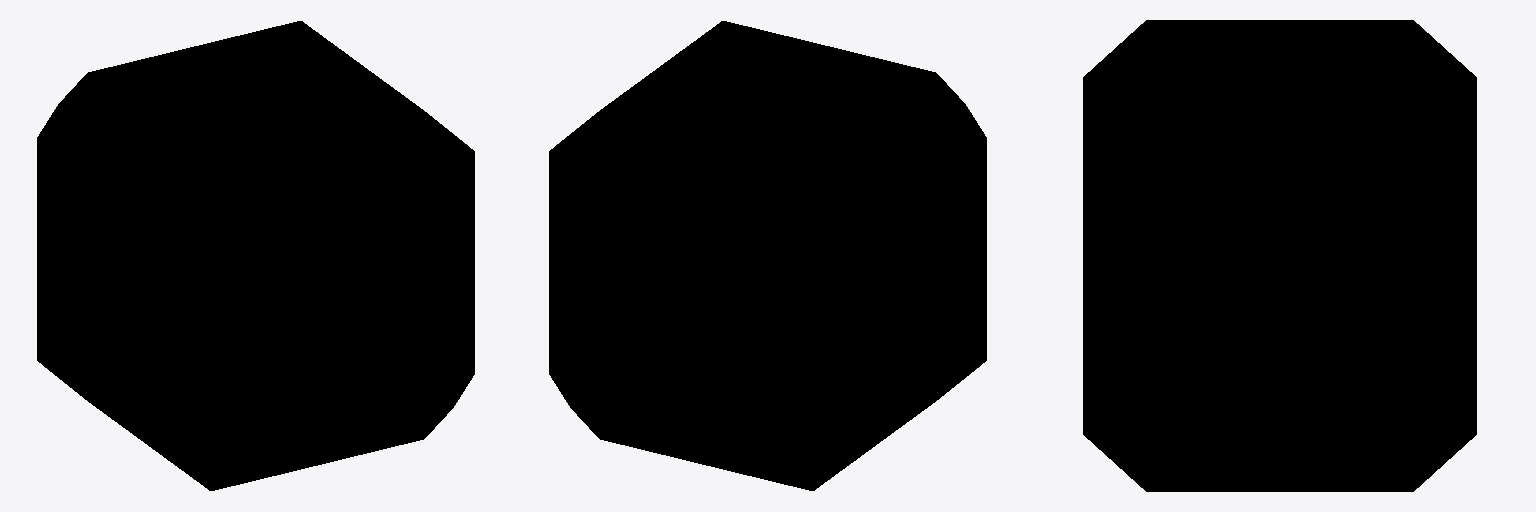
robot.urdf — cube_holes:
<?xml version="1.0" ?>
<robot name="cube_holes">
  <link name="baseLink">
    <contact>
            <restitution value="100" />
            <lateral_friction value="1000"/>
            <rolling_friction value="1000"/>
            <spinning_friction value="1000"/>
            <linear_damping value="1000"/>
            <angular_damping value="1000"/>
    </contact>
    <inertial>
      <origin rpy="0 0 0" xyz="0.0001 0.0 0.0"/>
       <mass value="10"/>
       <inertia ixx="0.0053" ixy="9e-05" ixz="0.00014" iyy="0.00534" iyz="0.0003" izz="0.00155"/>
    </inertial>
    <visual>
      <origin rpy="0 0 0" xyz="0.0001 0.0 0.0"/>
      <geometry>
        <mesh filename="../obj/cube_holes.obj" scale=".001 .001 .001"/>
      </geometry>
       <material name="black">
        <color rgba="0 0 0 1"/>
      </material>
    </visual>
    <collision>
      <origin rpy="0 0 0" xyz="0.0001 0.0 0.0"/>
      <geometry>
	 	<mesh filename="../obj/cube_holes.obj" scale=".001 .001 .001"/>
      </geometry>
    </collision>
  </link>
</robot>

--- What the picture shows (computed from the rendered views, not written in the file) ---
The picture shows the robot from 3 angles, left to right: view 1: azimuth 30°, elevation 25°; view 2: azimuth 150°, elevation 25°; view 3: azimuth 270°, elevation 25°; orthographic projection.
Model cube_holes with 1 links and 0 joints (none), rooted at baseLink, posed all joints at 0.
Links seen in each view (by area): view 1: baseLink; view 2: baseLink; view 3: baseLink.
Link boxes in pixels (<box>): baseLink: <box>37,21,474,490</box>; baseLink: <box>549,21,986,490</box>; baseLink: <box>1083,20,1476,491</box>.
Bounding box of the posed robot: 0.05 × 0.05 × 0.05 m (x, y, z).
1 mesh visuals loaded from 1 distinct referenced files (1 OBJ).
